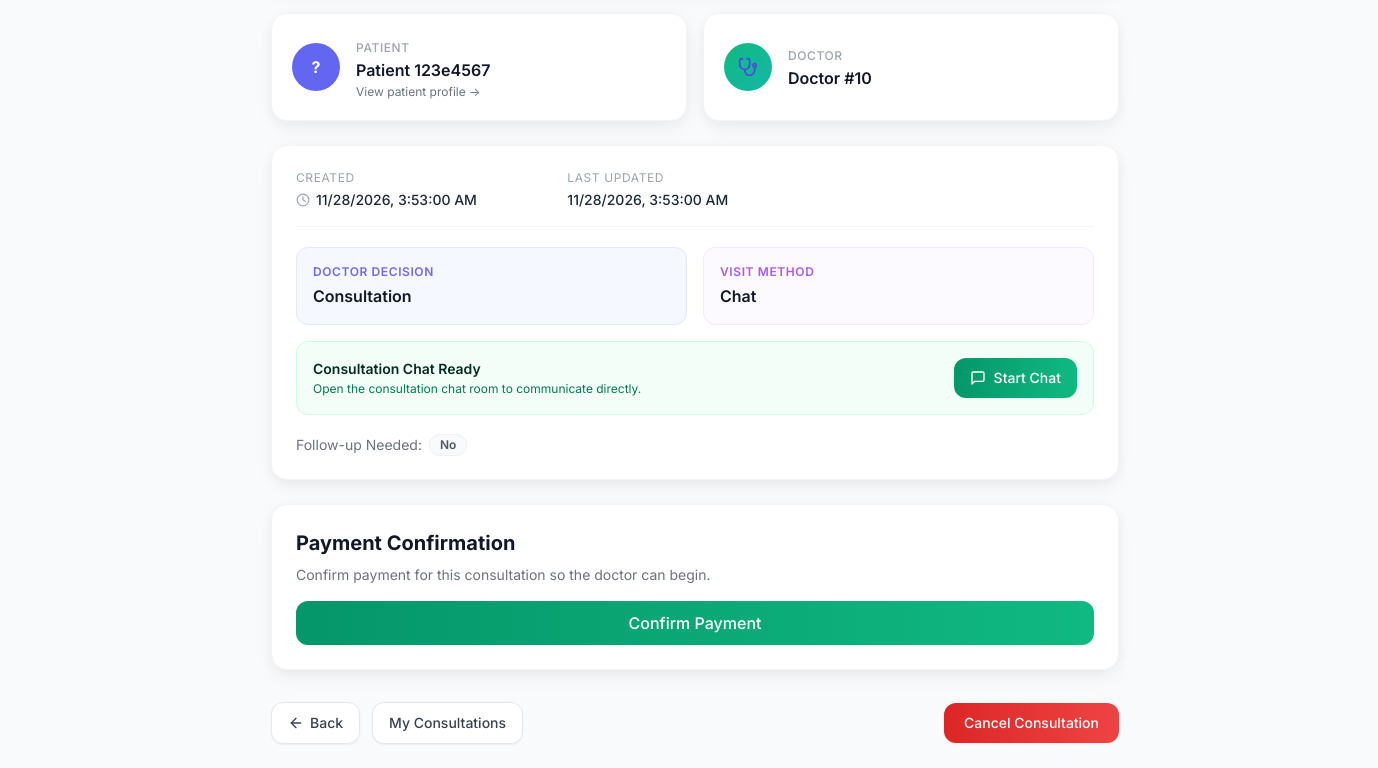
Test: ConsultationDetailPage workflows › allows PATIENT with CHAT decision to open consultation chat directly and confirm payment
(page scrolled)
What coordinates should you click on to do the following:
click the button "Confirm Payment"
I would click on:
 (695, 623)
Its box is [296,601,1094,645].
(page scrolled)
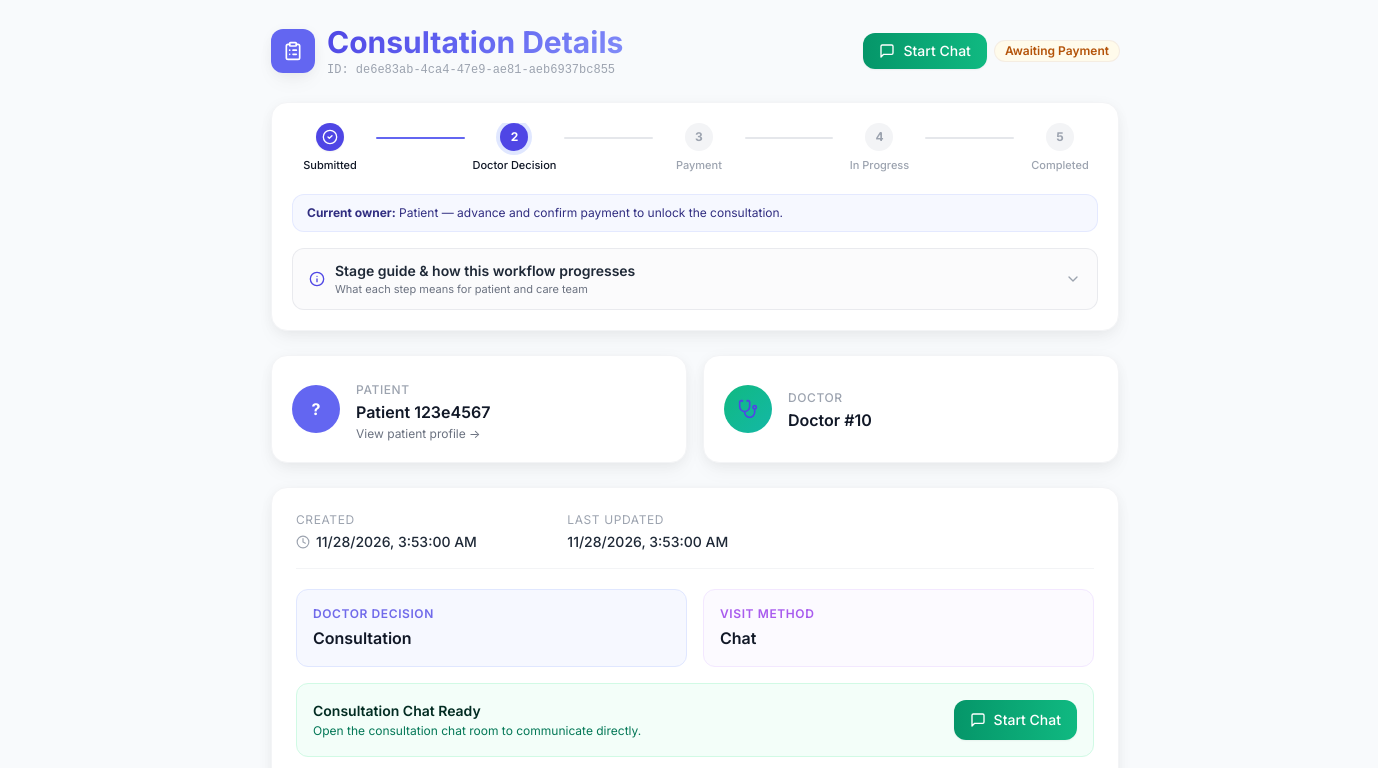
What coordinates should you click on to do the following:
click the button "Start Chat" next to "Awaiting Payment"
I would click on:
 (925, 51)
Its box is [864,33,987,69].
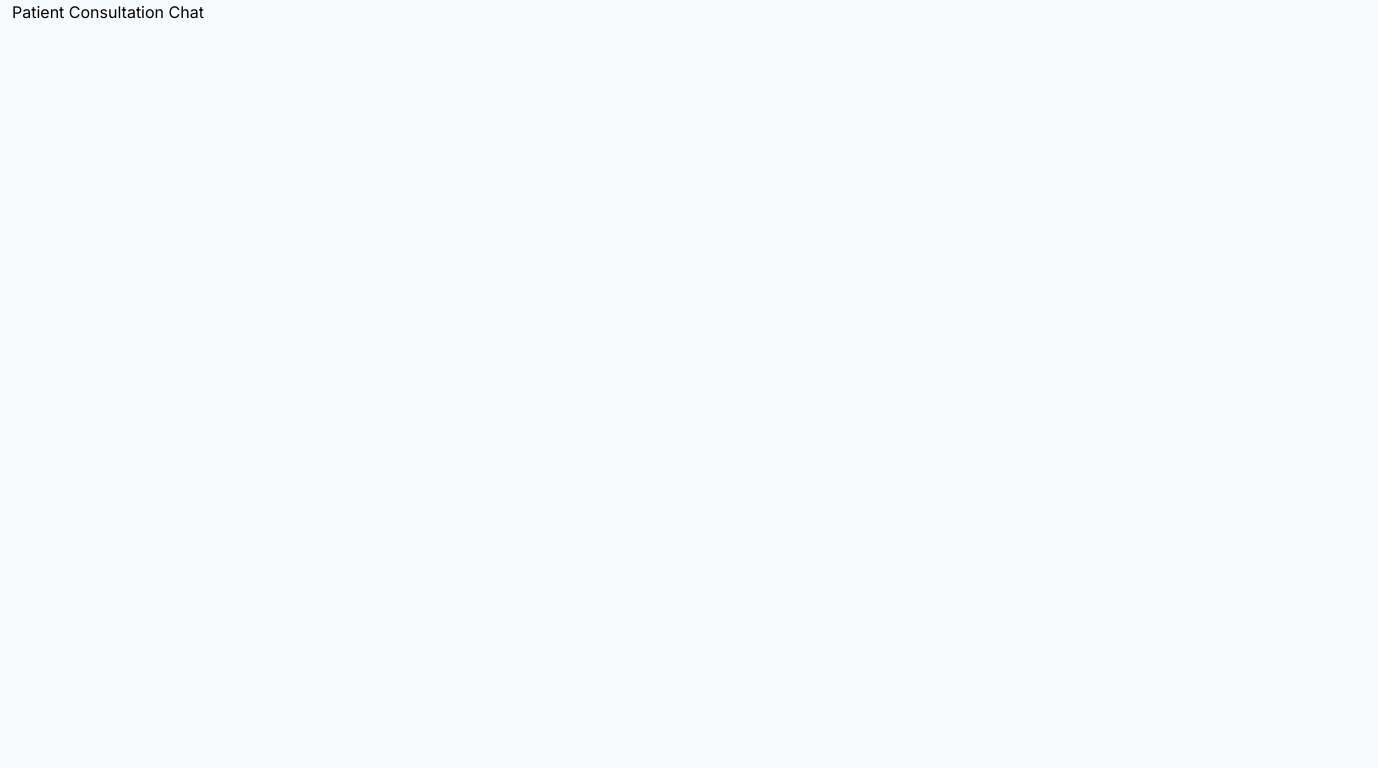
Result: the text "Patient Consultation Chat" is shown at [12,2,204,22]
